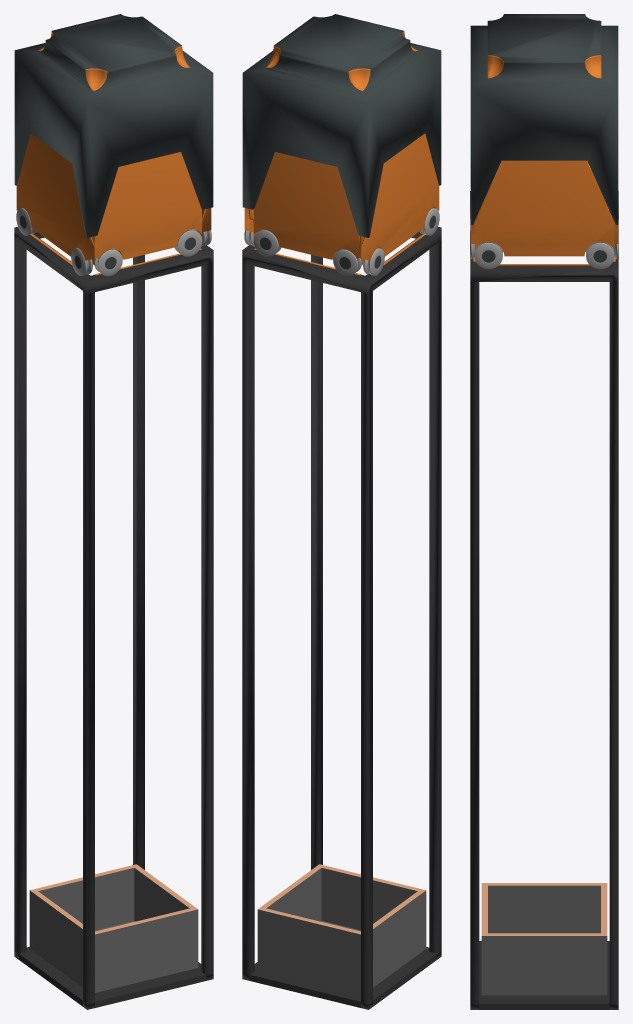
Rendered from storage_cube.glb.
3 renders of one model, left to right at view 1: azimuth 30°, elevation 25°; view 2: azimuth 150°, elevation 25°; view 3: azimuth 270°, elevation 25°, orthographic.
Parts seen in each view (by area): view 1: СТОЙКА, Это база, БОКС, Cube.002, Cube.001, Cylinder.002, Cylinder; view 2: СТОЙКА, Это база, БОКС, Cube.002, Cube.001, Cylinder.002, Cylinder; view 3: Это база, СТОЙКА, БОКС, Cube.001, Cylinder.
Part boxes in pixels (x1=…): СТОЙКА: x1=14, y1=226, x2=213, y2=1009; Это база: x1=14, y1=14, x2=213, y2=237; БОКС: x1=29, y1=864, x2=198, y2=992; Cube.002: x1=94, y1=152, x2=201, y2=259; Cube.001: x1=16, y1=133, x2=211, y2=264; Cylinder.002: x1=94, y1=229, x2=202, y2=276; Cylinder: x1=16, y1=208, x2=211, y2=275; СТОЙКА: x1=242, y1=226, x2=441, y2=1009; Это база: x1=242, y1=14, x2=441, y2=237; БОКС: x1=257, y1=864, x2=426, y2=992; Cube.002: x1=254, y1=152, x2=361, y2=259; Cube.001: x1=244, y1=133, x2=439, y2=264; Cylinder.002: x1=253, y1=229, x2=361, y2=276; Cylinder: x1=244, y1=208, x2=439, y2=275; Это база: x1=470, y1=14, x2=618, y2=224; СТОЙКА: x1=470, y1=219, x2=618, y2=1009; БОКС: x1=481, y1=883, x2=607, y2=995; Cube.001: x1=474, y1=160, x2=614, y2=256; Cylinder: x1=474, y1=242, x2=614, y2=269.
Size of the model in its own units: 2.13 by 14.88 by 2.13.
